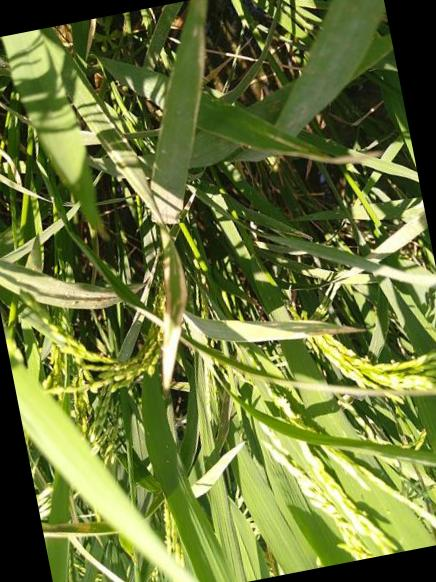Leaf Blight: (82, 103, 187, 388), (246, 126, 383, 165), (190, 16, 206, 148), (255, 319, 366, 336), (41, 521, 119, 539), (214, 392, 232, 453)
